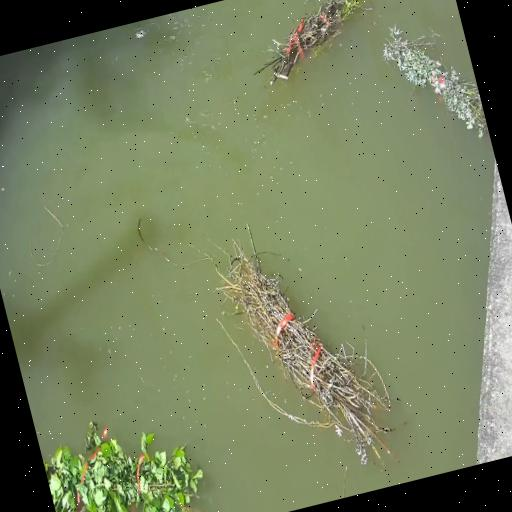twig: (217, 235, 391, 463), (43, 421, 203, 512), (383, 27, 488, 137), (255, 0, 361, 84)
